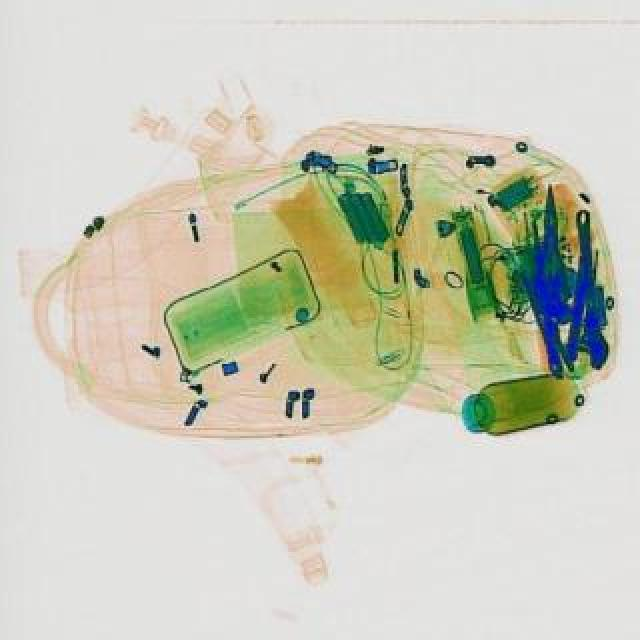scissors: (574, 206, 610, 368)
wrench: (528, 182, 568, 298)
